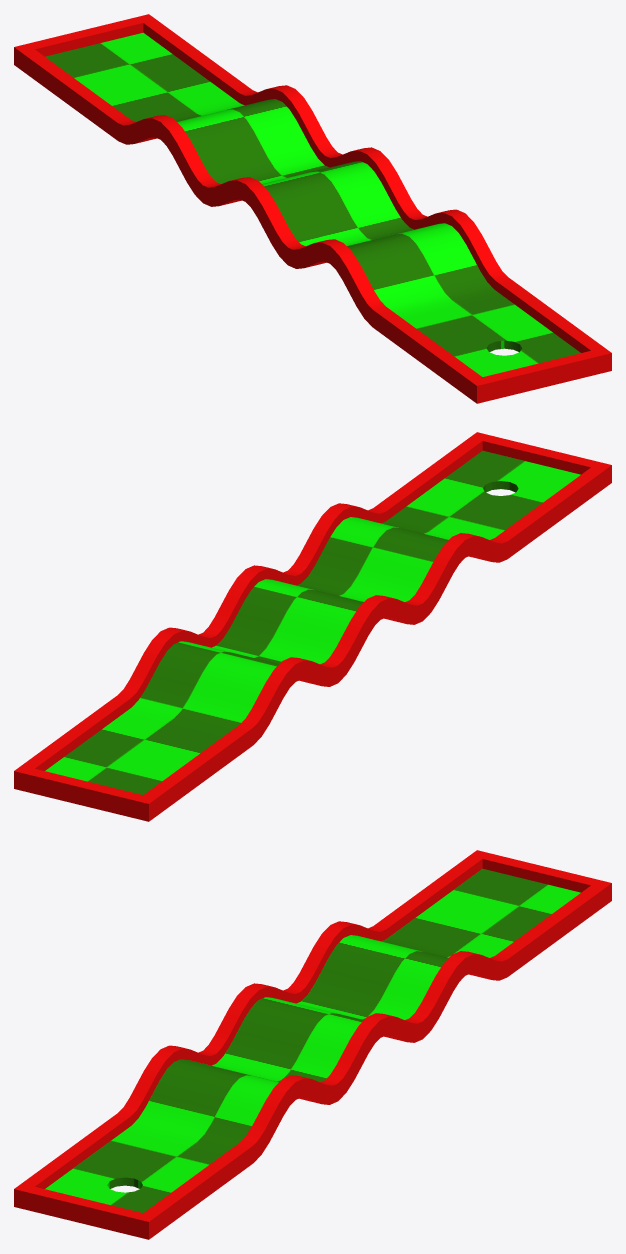
The model's file is 3BuckelTrack.fbx.
The picture shows the model from 3 angles, top to bottom: view 1: azimuth 30°, elevation 25°; view 2: azimuth 150°, elevation 25°; view 3: azimuth 330°, elevation 25°; orthographic projection.
Visible parts, largest first — view 1: BahnF2_Track, BahnF2_Boundary; view 2: BahnF2_Track, BahnF2_Boundary; view 3: BahnF2_Track, BahnF2_Boundary.
Part boxes in pixels (x1,y1,x2,y2): BahnF2_Track: (45, 32, 580, 376); BahnF2_Boundary: (14, 14, 611, 403); BahnF2_Track: (45, 450, 580, 794); BahnF2_Boundary: (14, 432, 611, 821); BahnF2_Track: (45, 868, 580, 1212); BahnF2_Boundary: (14, 850, 611, 1239).
Size of the model in its own units: 87 by 31 by 517.
